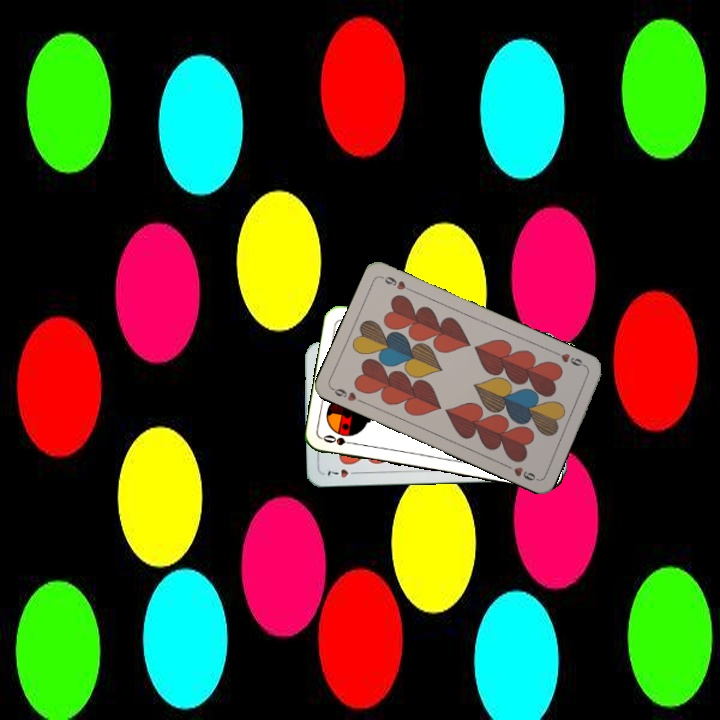H7: (323, 465, 362, 480)
H9: (328, 384, 367, 406), (551, 348, 589, 370)
SO: (319, 431, 359, 448)
